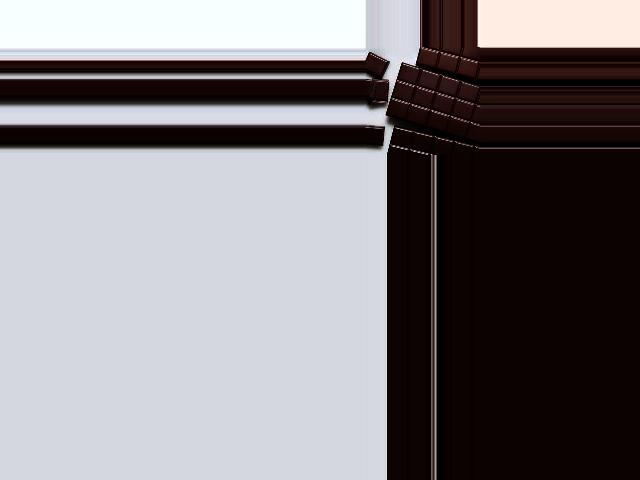chocolate: (387, 60, 481, 140)
